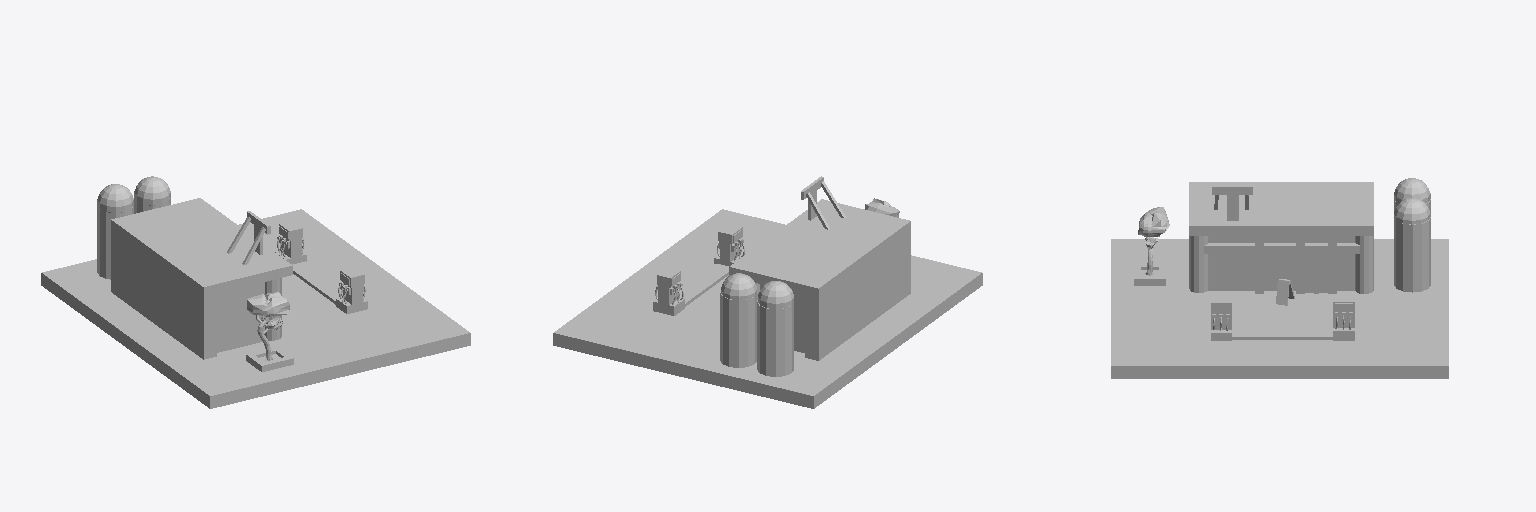
3 renders of one model, left to right at view 1: azimuth 30°, elevation 25°; view 2: azimuth 150°, elevation 25°; view 3: azimuth 270°, elevation 25°, orthographic.
Parts seen in each view (by area): view 1: group[number redacted], group[number redacted], group[number redacted], group[number redacted], group[number redacted], group[number redacted], group[number redacted], group[number redacted], group[number redacted], group[number redacted], group[number redacted]; view 2: group[number redacted], group[number redacted], group[number redacted], group[number redacted], group[number redacted], group[number redacted], group[number redacted], group[number redacted], group[number redacted], group[number redacted]; view 3: group[number redacted], group[number redacted], group[number redacted], group[number redacted], group[number redacted], group[number redacted], group[number redacted], group[number redacted], group[number redacted], group[number redacted], group[number redacted], group[number redacted] (+3 smaller).
Part boxes in pixels (x1,y1,x2,y2): group[number redacted]: (41,209,470,408); group[number redacted]: (111,198,292,296); group[number redacted]: (111,230,216,359); group[number redacted]: (217,282,264,352); group[number redacted]: (247,292,289,360); group[number redacted]: (336,267,367,313); group[number redacted]: (97,205,133,279); group[number redacted]: (275,220,306,264); group[number redacted]: (97,184,133,212); group[number redacted]: (134,176,170,205); group[number redacted]: (262,262,281,340); group[number redacted]: (553,209,982,408); group[number redacted]: (729,199,910,297); group[number redacted]: (805,231,910,360); group[number redacted]: (757,301,793,376); group[number redacted]: (720,292,756,367); group[number redacted]: (653,267,684,315); group[number redacted]: (714,224,744,266); group[number redacted]: (758,281,793,308); group[number redacted]: (721,273,756,299); group[number redacted]: (760,284,804,352); group[number redacted]: (1111,239,1448,378); group[number redacted]: (1189,182,1373,235); group[number redacted]: (1208,236,1354,290); group[number redacted]: (1394,217,1430,292); group[number redacted]: (1204,243,1359,253); group[number redacted]: (1189,214,1208,292); group[number redacted]: (1355,236,1373,293); group[number redacted]: (1333,295,1354,340); group[number redacted]: (1138,207,1169,275); group[number redacted]: (1211,297,1231,340); group[number redacted]: (1394,198,1430,224); group[number redacted]: (1212,185,1252,220).
Size of the model in its own units: 1.69 by 0.74 by 1.9.